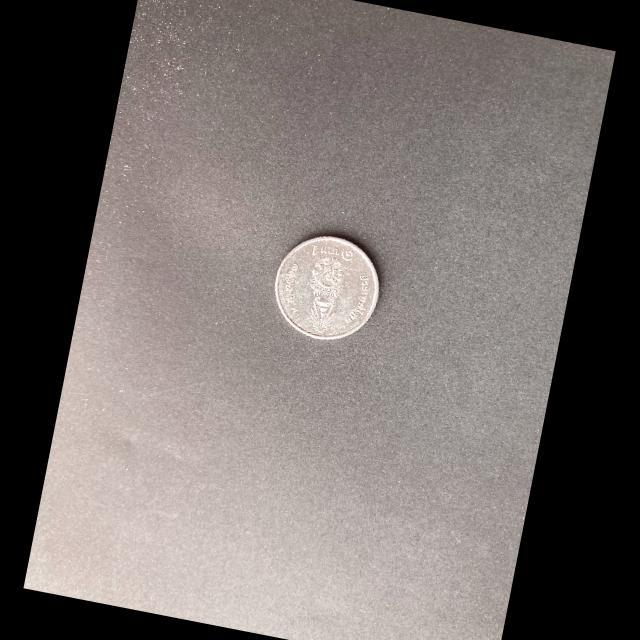1 Bath: (276, 234, 384, 347)
